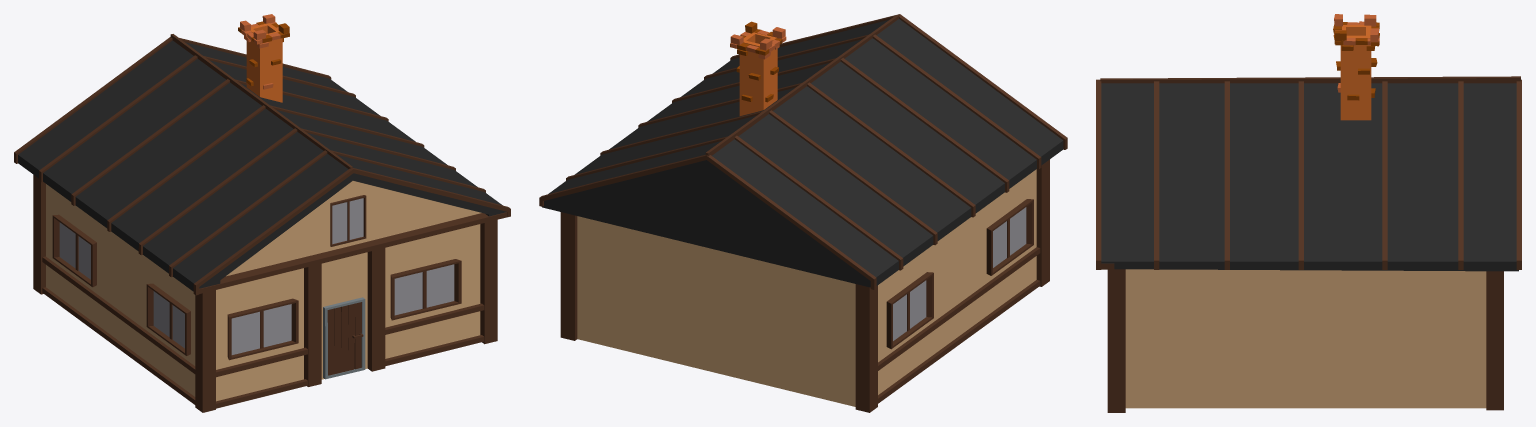
3 views of the same model, side by side, from view 1: azimuth 30°, elevation 25°; view 2: azimuth 150°, elevation 25°; view 3: azimuth 270°, elevation 25° (orthographic). The views are drawn at different scales.
Visible parts, largest first — view 1: Cube.014, Cube.002, Cube.050, Cube.021, Cube.013, Cube, Cube.052; view 2: Cube.014, Cube.002, Cube.050, Cube.021, Cube, Cube.052; view 3: Cube.014, Cube.002, Cube.050, Cube, Cube.052.
Part boxes in pixels (left/top/right/bottom): Cube.014: left=18, top=40, right=506, bottom=291; Cube.002: left=46, top=181, right=481, bottom=401; Cube.050: left=14, top=34, right=510, bottom=412; Cube.021: left=52, top=195, right=461, bottom=360; Cube.013: left=323, top=297, right=365, bottom=379; Cube: left=246, top=23, right=282, bottom=102; Cube.052: left=238, top=14, right=289, bottom=89; Cube.014: left=548, top=19, right=1063, bottom=287; Cube.002: left=542, top=169, right=1036, bottom=406; Cube.050: left=539, top=14, right=1067, bottom=412; Cube.021: left=886, top=199, right=1033, bottom=349; Cube: left=739, top=32, right=777, bottom=115; Cube.052: left=730, top=21, right=786, bottom=102; Cube.014: left=1101, top=83, right=1518, bottom=271; Cube.002: left=1125, top=269, right=1486, bottom=408; Cube.050: left=1096, top=76, right=1521, bottom=412; Cube: left=1340, top=25, right=1371, bottom=120; Cube.052: left=1333, top=14, right=1379, bottom=100.
Size of the model in its own units: 658 by 541 by 658.
